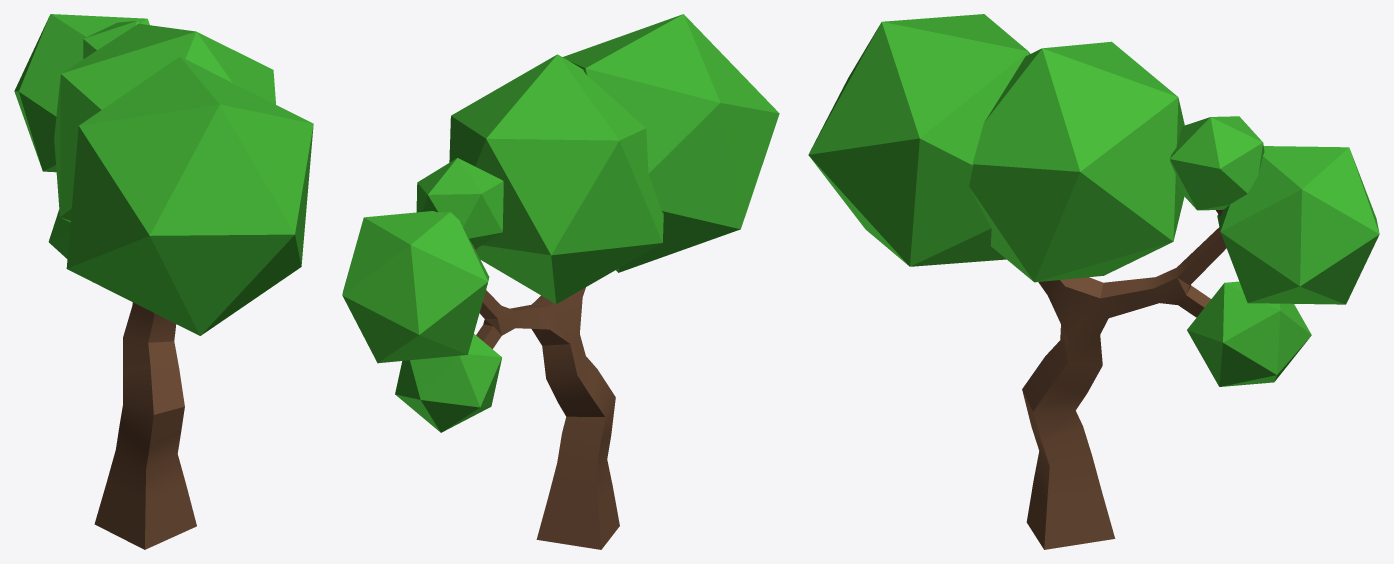
Rendered from Tree2.fbx.
The picture shows the model from 3 angles, left to right: view 1: azimuth 30°, elevation 25°; view 2: azimuth 150°, elevation 25°; view 3: azimuth 270°, elevation 25°; orthographic projection. The views are drawn at different scales.
Parts seen in each view (by area): view 1: Cube; view 2: Cube; view 3: Cube.
Part boxes in pixels (x1=…): Cube: x1=14, y1=14, x2=313, y2=549; Cube: x1=342, y1=14, x2=779, y2=549; Cube: x1=808, y1=14, x2=1379, y2=549.
Bounding box in the file's own units: 5.29 × 9.46 × 9.73.
